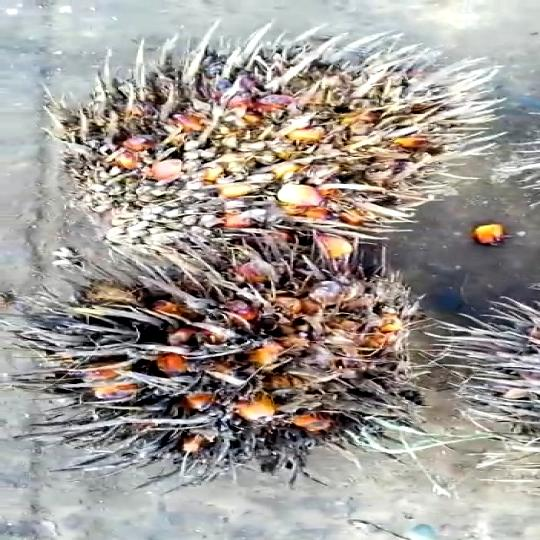terlalu masak: (19, 232, 462, 484), (48, 32, 497, 251)
